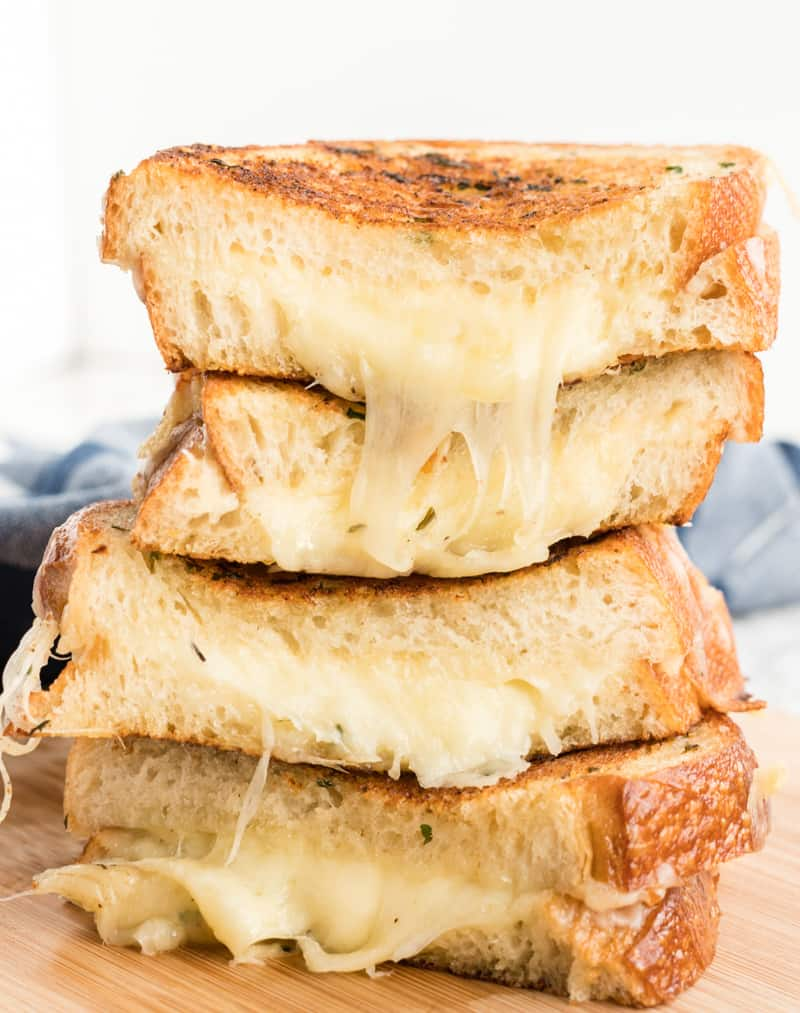cheese: (54, 565, 627, 797), (166, 340, 621, 610), (59, 752, 526, 967), (160, 226, 535, 401)
